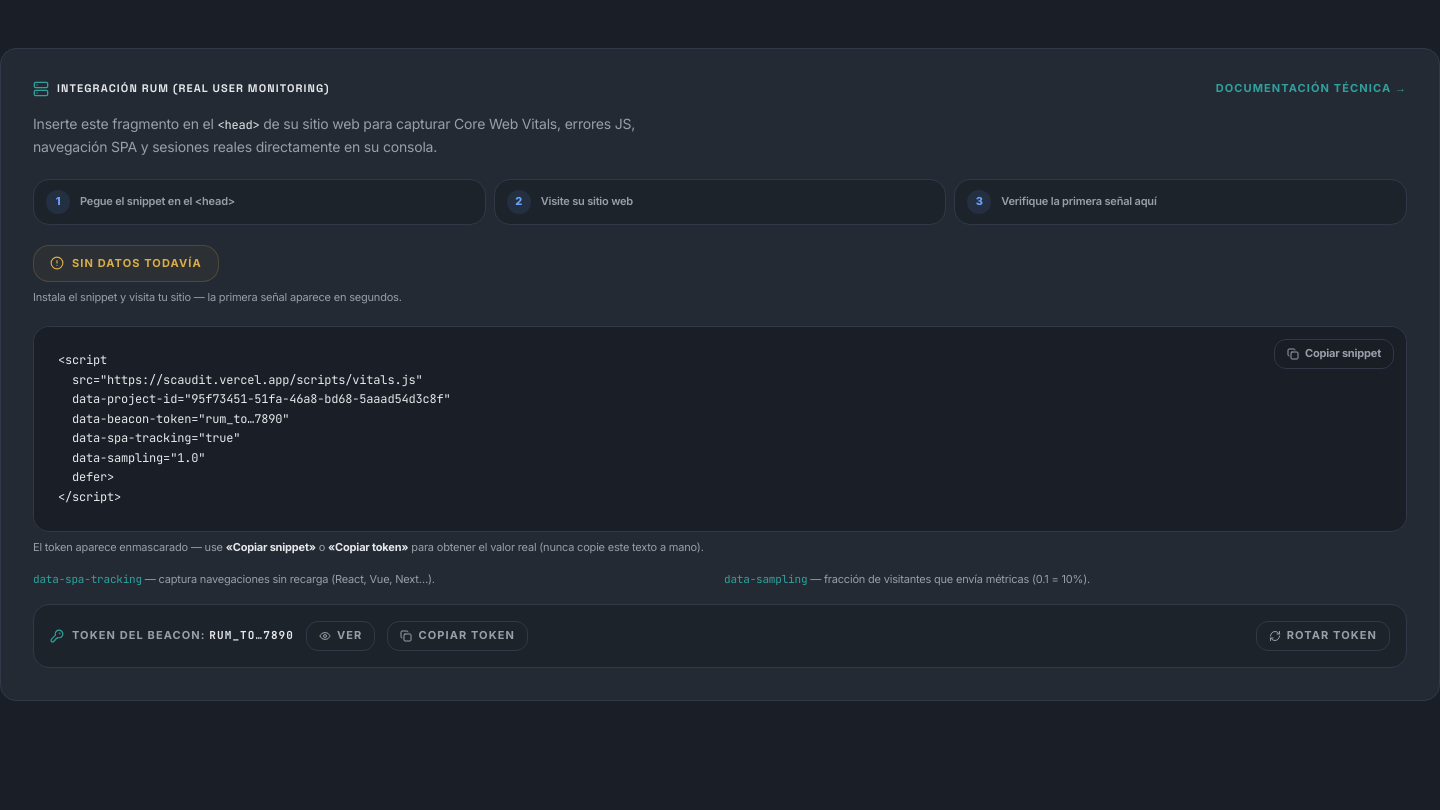
Test: RumIntegrationCard › «Ver token» (owner) revela el secreto real y «Ocultar» vuelve a enmascarado
Click the button with aria-label "Ver token" at (341, 636), box [306,621,375,651]
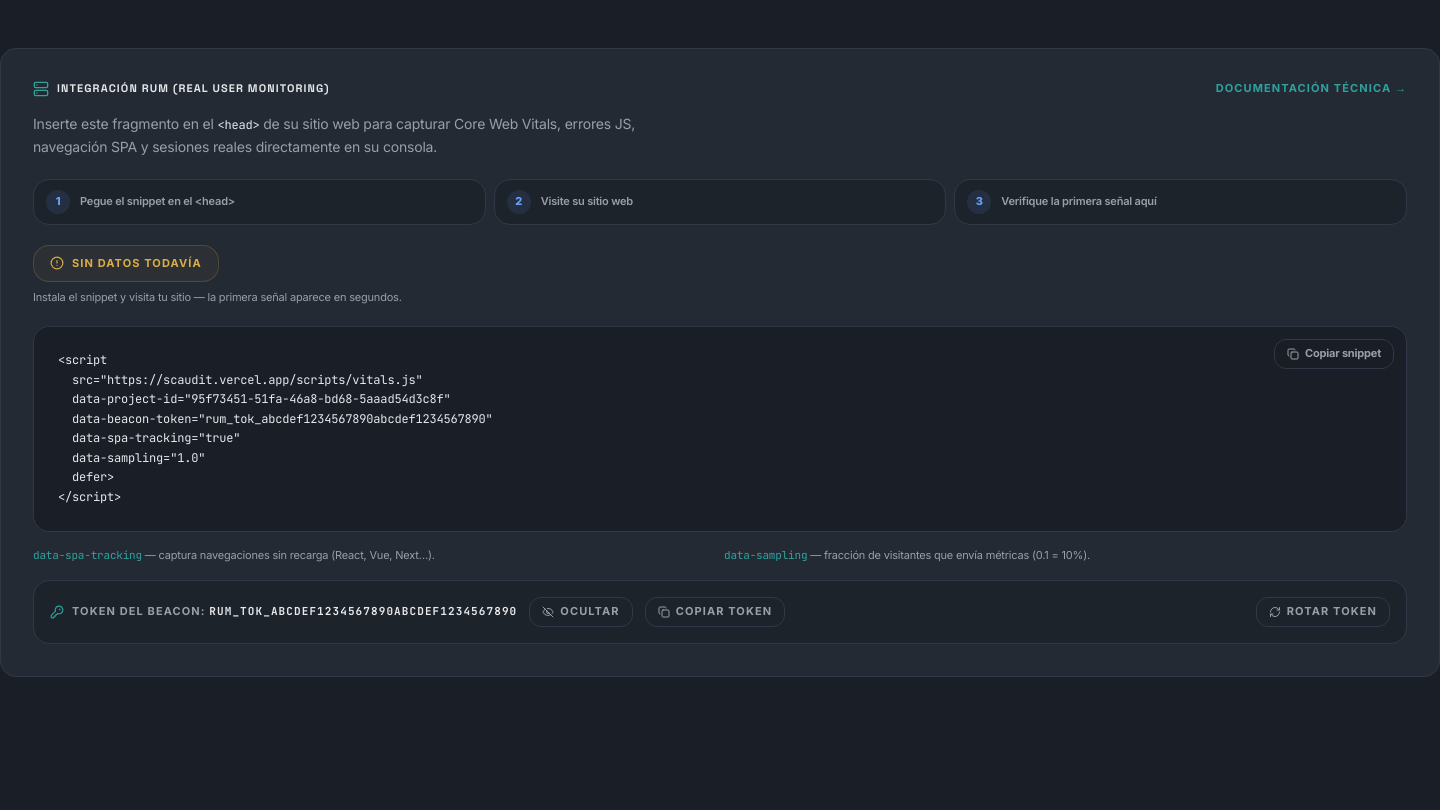
Expected: the text "rum_tok_abcdef1234567890abcdef1234567890" is shown, [209,604,517,618]
Click the button with aria-label "Ocultar token" at (581, 612), box [529,597,633,627]
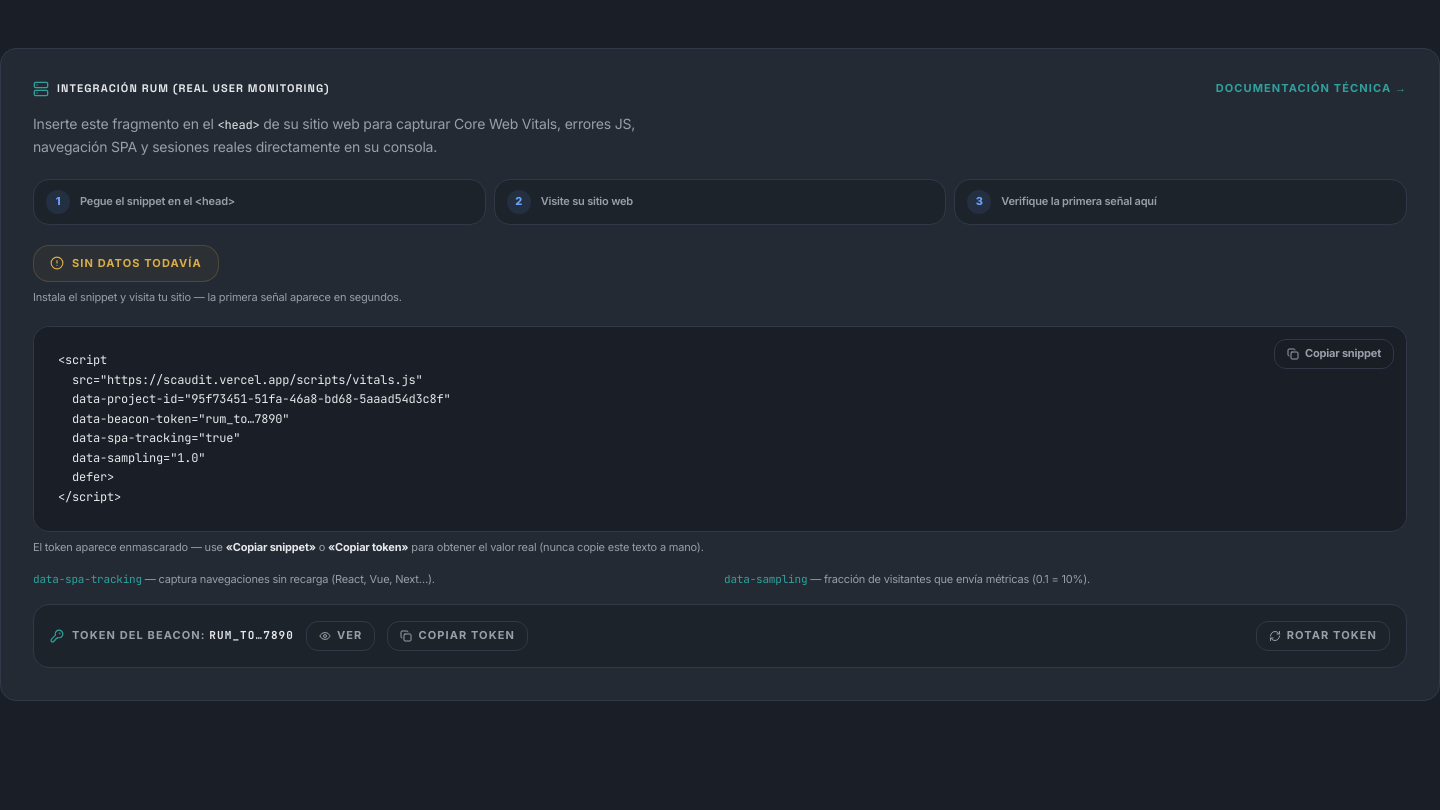
Expected: the text "rum_tok_abcdef1234567890abcdef1234567890" is gone
